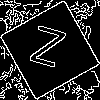Z: (25, 25, 67, 78)
